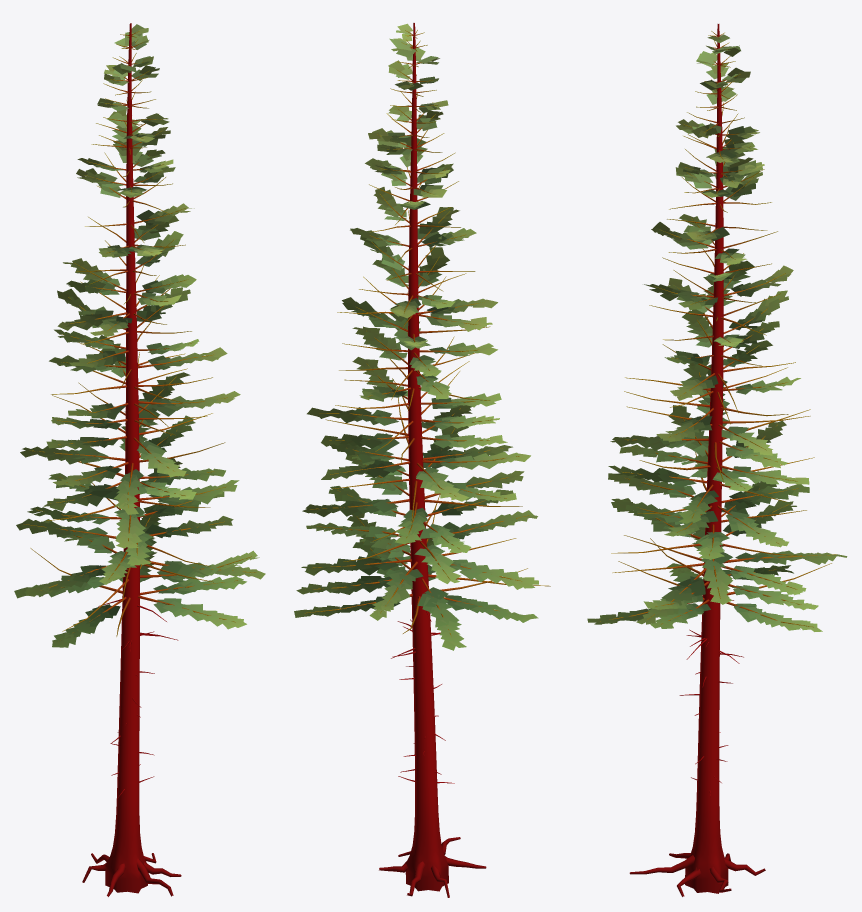
The model's file is fir_a.glb.
The picture shows the model from 3 angles, left to right: view 1: azimuth 30°, elevation 25°; view 2: azimuth 150°, elevation 25°; view 3: azimuth 270°, elevation 25°; orthographic projection.
Parts seen in each view (by area): view 1: LOD0; view 2: LOD0; view 3: LOD0.
Boxes of the visible parts, x1,y1,x2,y2 form: LOD0: [14, 23, 265, 896]; LOD0: [294, 23, 550, 897]; LOD0: [587, 24, 847, 896].
Size of what is drawn, in the model's own units: 6.86 by 25.72 by 6.97.
